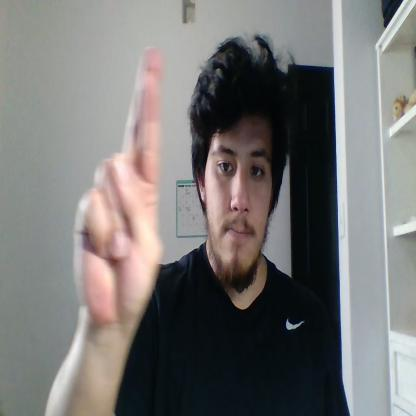R: (74, 44, 164, 324)
